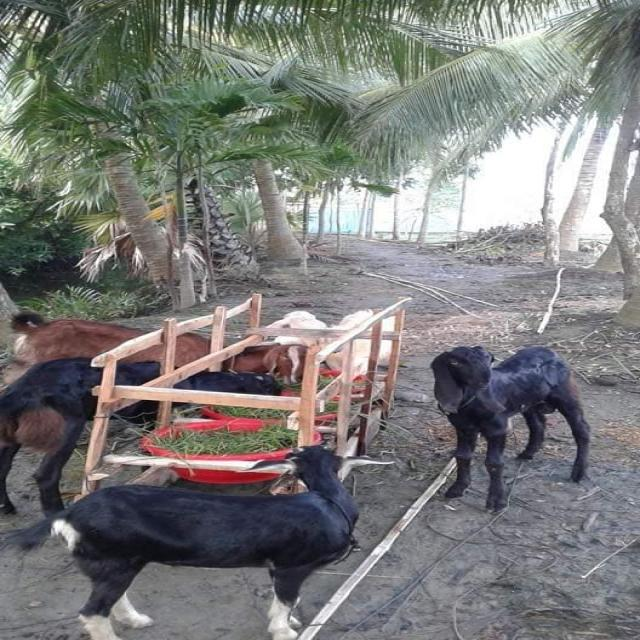Goat: (1, 443, 394, 639), (0, 356, 284, 520), (428, 343, 591, 512)
